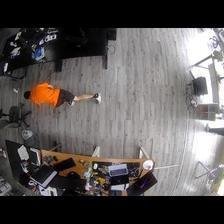fall: (22, 83, 102, 109)
